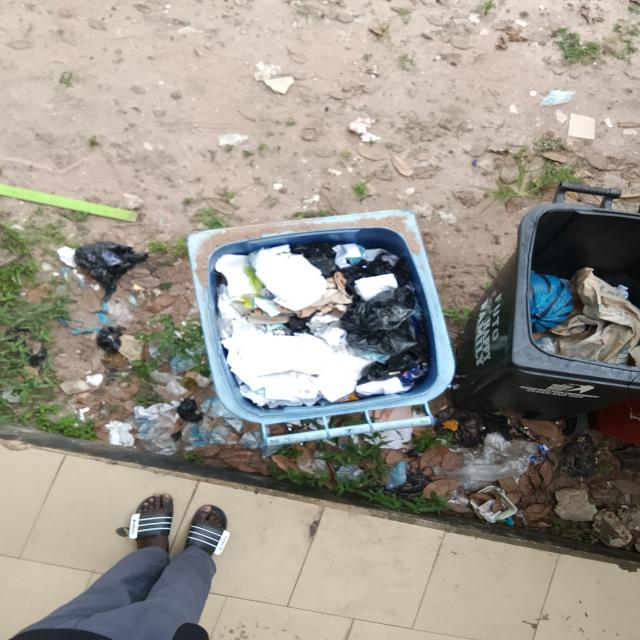full: (186, 208, 458, 414)
half-full: (513, 198, 640, 384)
